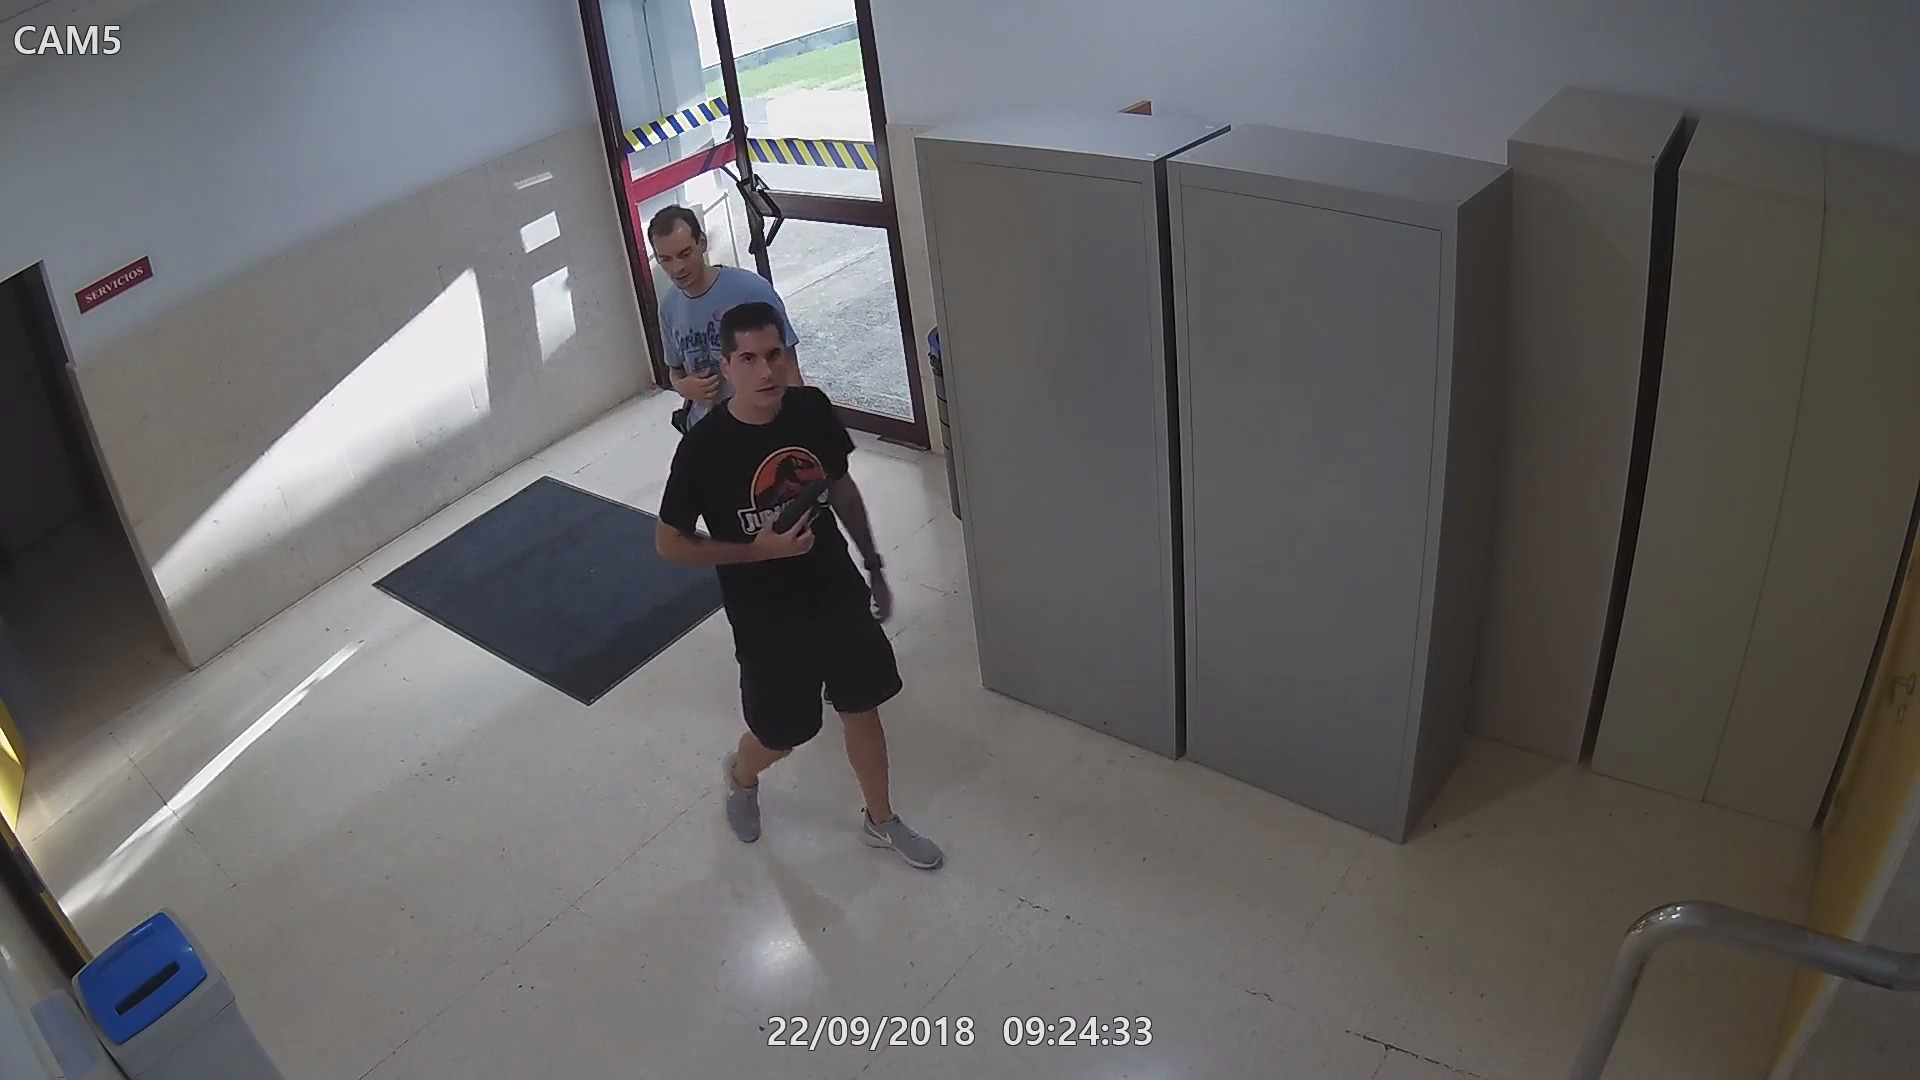Handgun: (761, 475, 829, 563), (665, 380, 696, 435)
